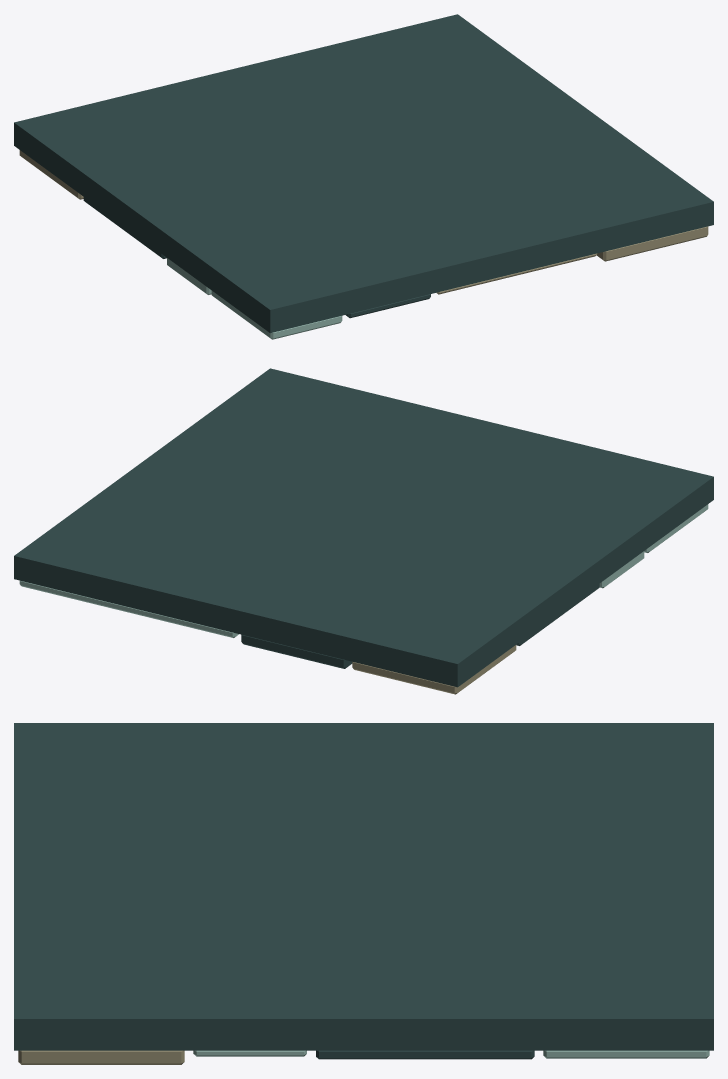
The model's file is ceil_dr_light.glb.
3 renders of one model, top to bottom at view 1: azimuth 30°, elevation 25°; view 2: azimuth 150°, elevation 25°; view 3: azimuth 270°, elevation 25°, orthographic. The views are drawn at different scales.
Visible parts, largest first — view 1: ceil_dr_light; view 2: ceil_dr_light; view 3: ceil_dr_light.
Part boxes in pixels (box(x1,y1,x2,y2)): ceil_dr_light: box(14, 14, 713, 339); ceil_dr_light: box(14, 368, 713, 694); ceil_dr_light: box(14, 723, 713, 1064).
Bounding box in the file's own units: 4 × 0.4606 × 4.
